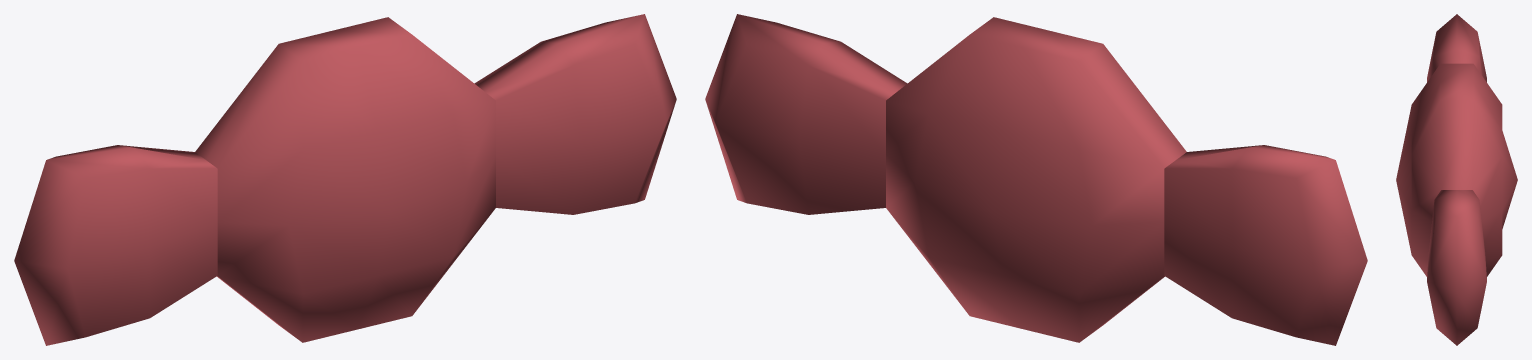
File: bonbonRouge.fbx
3 renders of one model, left to right at view 1: azimuth 30°, elevation 25°; view 2: azimuth 150°, elevation 25°; view 3: azimuth 270°, elevation 25°, orthographic. The views are drawn at different scales.
Parts seen in each view (by area): view 1: bonbon1; view 2: bonbon1; view 3: bonbon1.
Boxes of the visible parts, x1,y1,x2,y2 form: bonbon1: (14, 14, 676, 345); bonbon1: (705, 14, 1367, 345); bonbon1: (1396, 14, 1517, 345).
Bounding box in the file's own units: 109 × 44.08 × 24.9.
